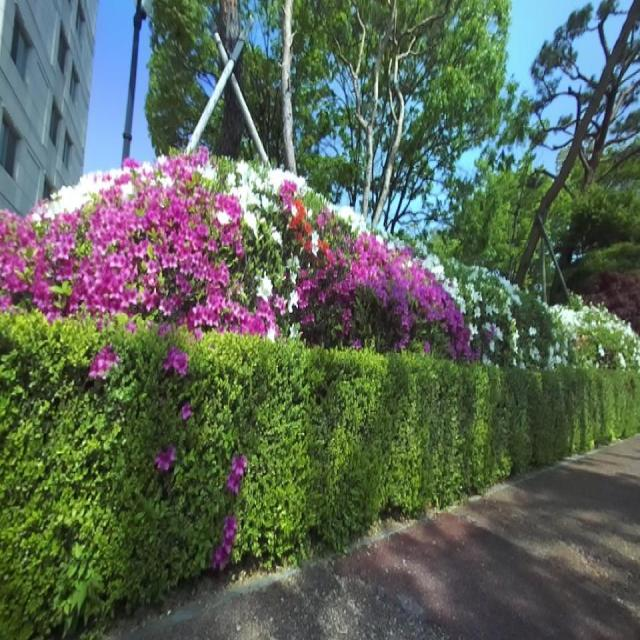sidewalk: (109, 435, 640, 640)
